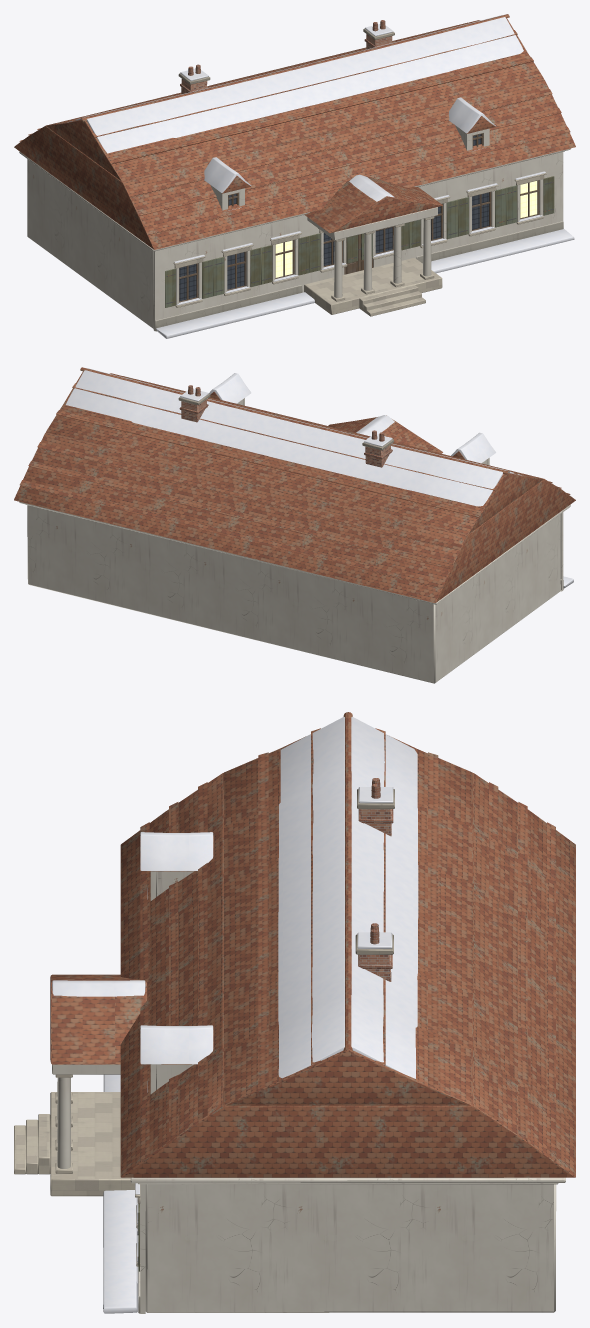
Rendered from farm_manor.glb.
3 renders of one model, top to bottom at view 1: azimuth 30°, elevation 25°; view 2: azimuth 150°, elevation 25°; view 3: azimuth 270°, elevation 25°, orthographic. The views are drawn at different scales.
Visible parts, largest first — view 1: farm_manor; view 2: farm_manor; view 3: farm_manor.
Boxes of the visible parts, x1,y1,x2,y2 form: farm_manor: [14, 14, 575, 338]; farm_manor: [14, 367, 575, 683]; farm_manor: [14, 712, 575, 1313].
Size of what is drawn, in the model's own units: 23.03 by 9.49 by 16.22.
Materials: 13 (13 with a texture image).
